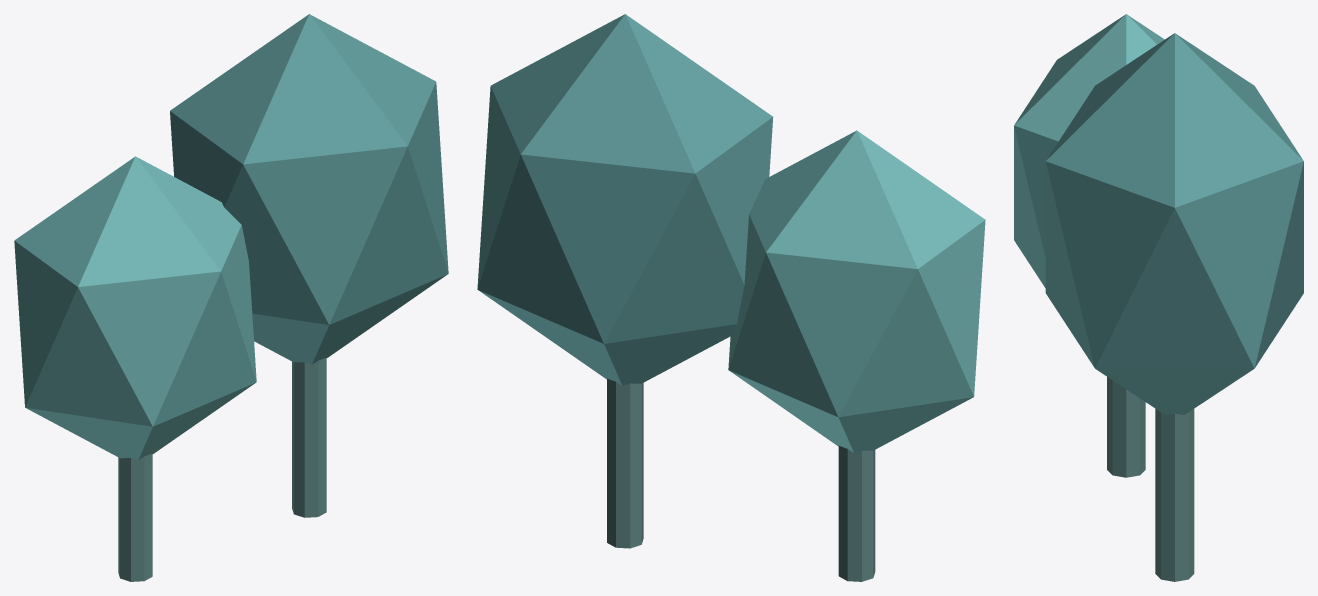
Rendered from campus_tree_cluster_bare_v01.glb.
3 views of the same model, side by side, from view 1: azimuth 30°, elevation 25°; view 2: azimuth 150°, elevation 25°; view 3: azimuth 270°, elevation 25° (orthographic). The views are drawn at different scales.
Visible parts, largest first — view 1: campus_tree_cluster_bare; view 2: campus_tree_cluster_bare; view 3: campus_tree_cluster_bare.
Boxes of the visible parts, bbox=[...] form: campus_tree_cluster_bare: bbox=[14, 14, 448, 581]; campus_tree_cluster_bare: bbox=[477, 14, 985, 581]; campus_tree_cluster_bare: bbox=[1014, 14, 1303, 581].
Bounding box in the file's own units: 2.81 × 3.07 × 1.49.
1 material, 1 textured.
